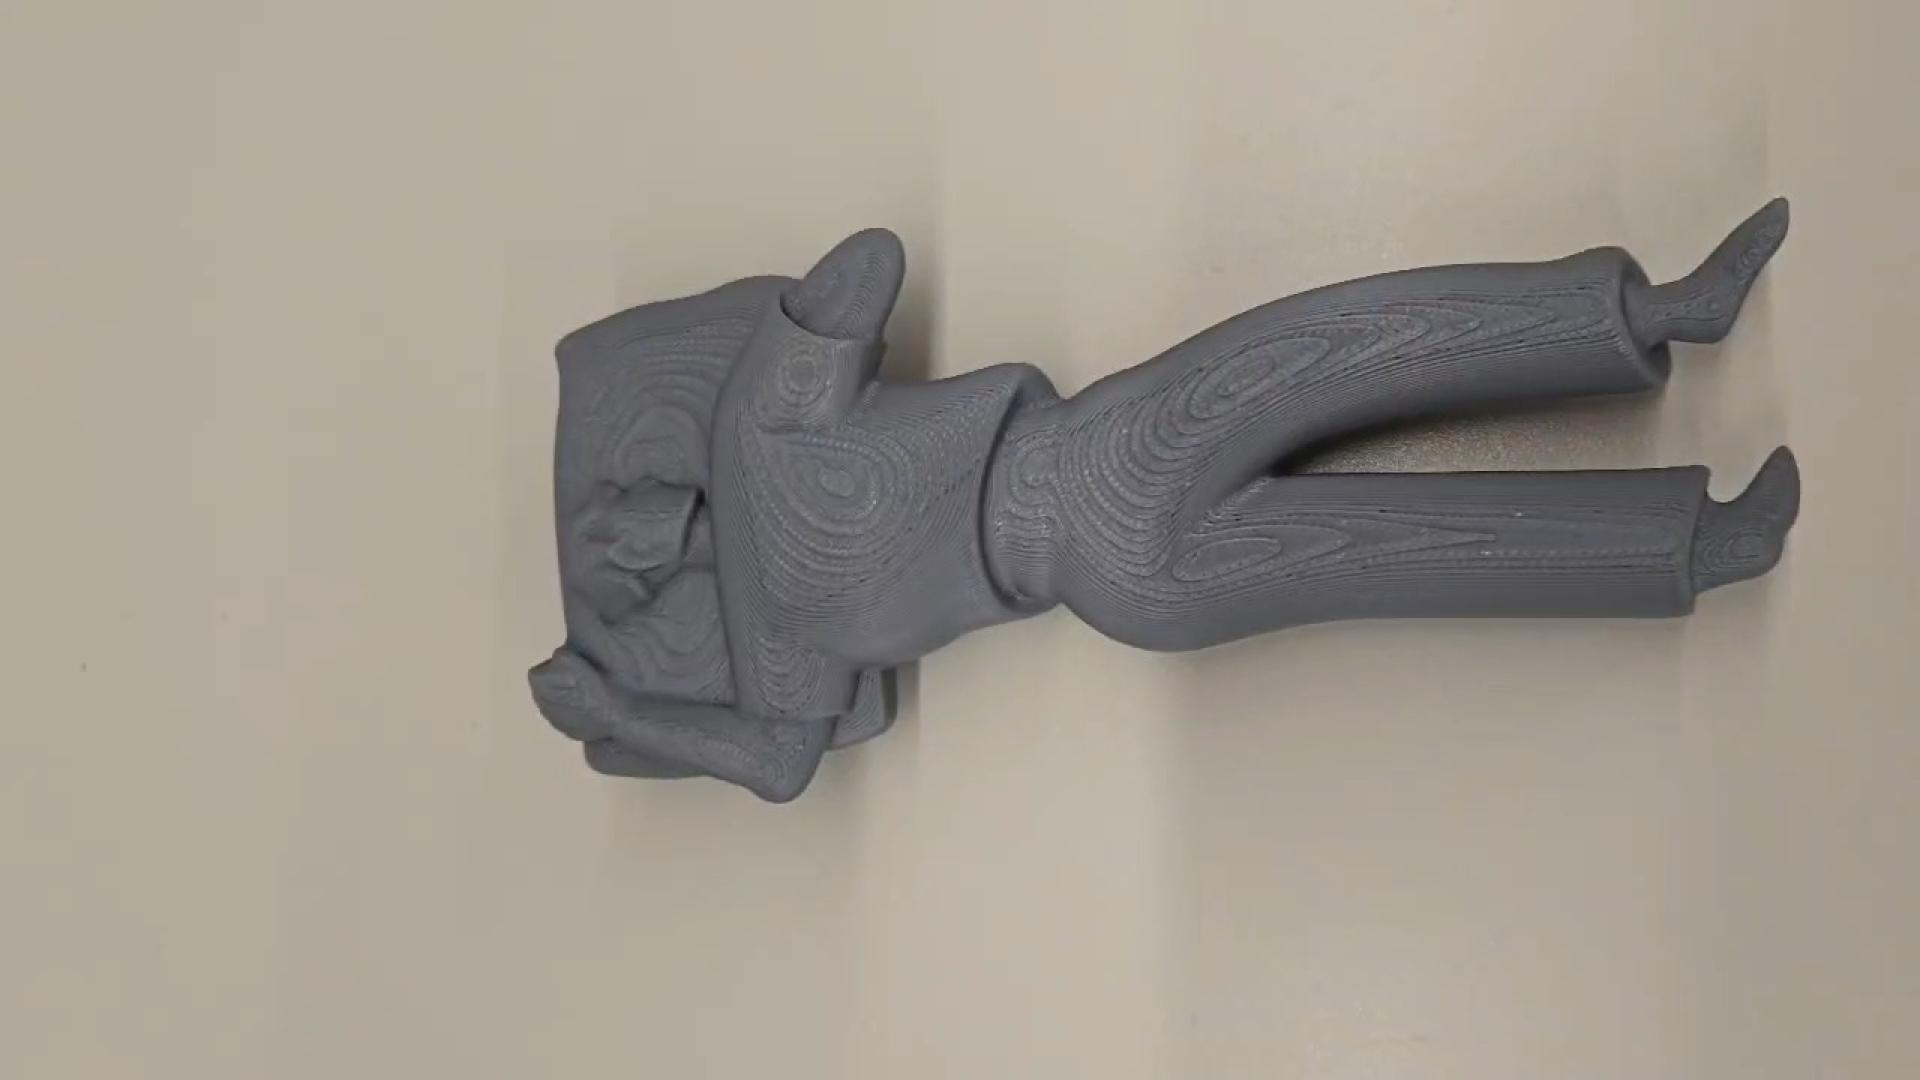Bad-style: (521, 187, 1808, 814)
